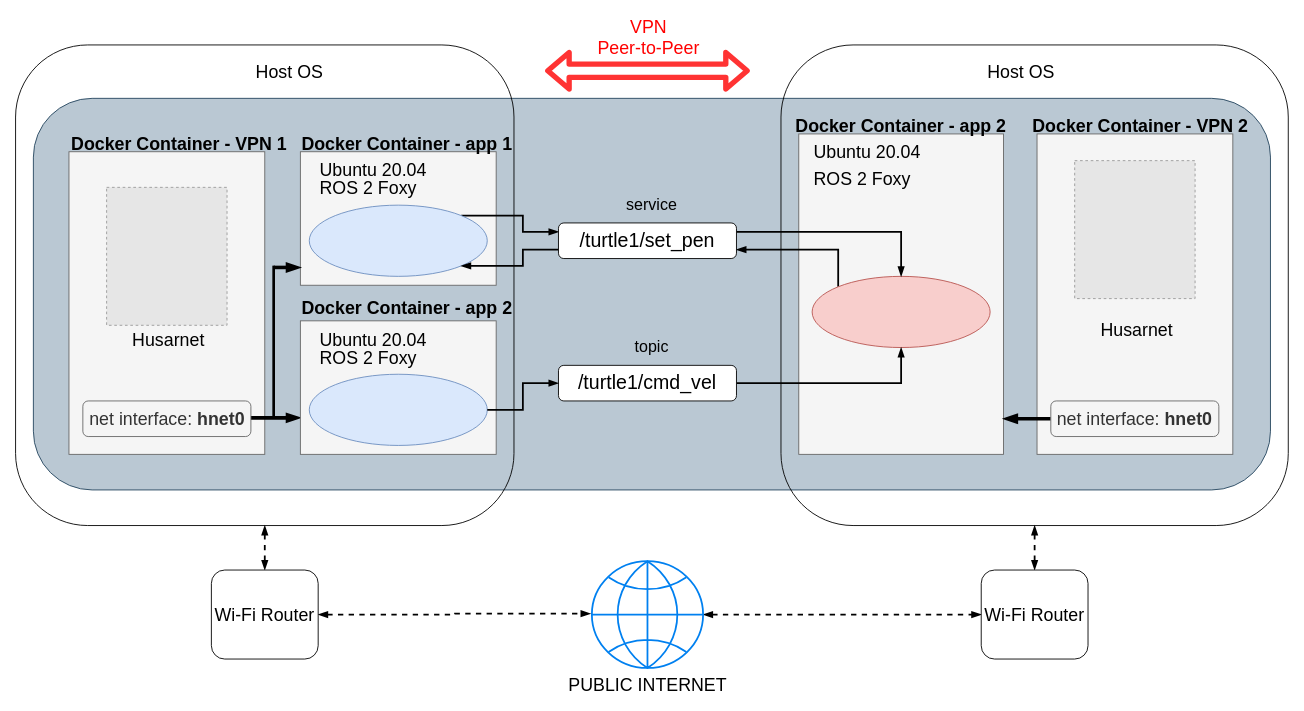
Image size: 1304x711. Some labels were removed from this diagram. Grey dashed boxes stand in for pictures. Here are the shapes that lost their labels. From the top down, the box of each, then its label:
(308, 204, 487, 276): /color_controller
(811, 275, 990, 348): /turtlesim
(308, 373, 487, 445): /move_controller
